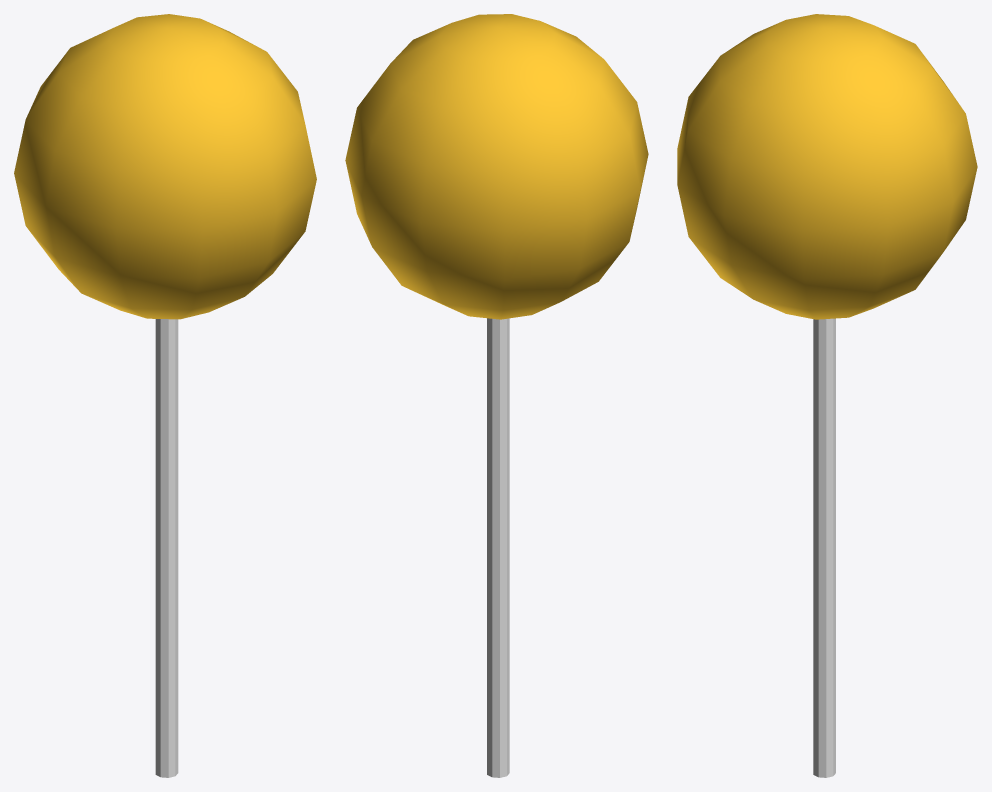
Rendered from 13_YellowLolly.fbx.
3 views of the same model, side by side, from view 1: azimuth 30°, elevation 25°; view 2: azimuth 150°, elevation 25°; view 3: azimuth 270°, elevation 25° (orthographic).
Parts seen in each view (by area): view 1: Sphere.020, Cylinder.056; view 2: Sphere.020, Cylinder.056; view 3: Sphere.020, Cylinder.056.
Part boxes in pixels (<box>): Sphere.020: <box>14,14,316,319</box>; Cylinder.056: <box>155,319,178,777</box>; Sphere.020: <box>345,14,648,319</box>; Cylinder.056: <box>487,318,509,777</box>; Sphere.020: <box>677,14,977,319</box>; Cylinder.056: <box>813,318,835,777</box>.
Size of the model in its own units: 127 by 345 by 126.
